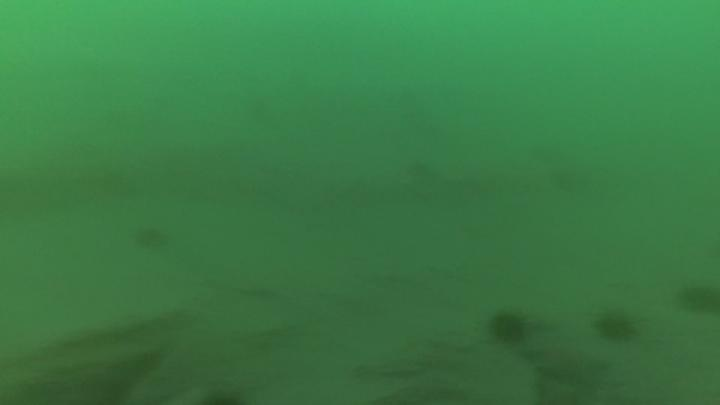echinus: (675, 278, 720, 320), (592, 307, 640, 346), (487, 308, 530, 347), (131, 222, 171, 254)
starfish: (520, 328, 610, 396)
